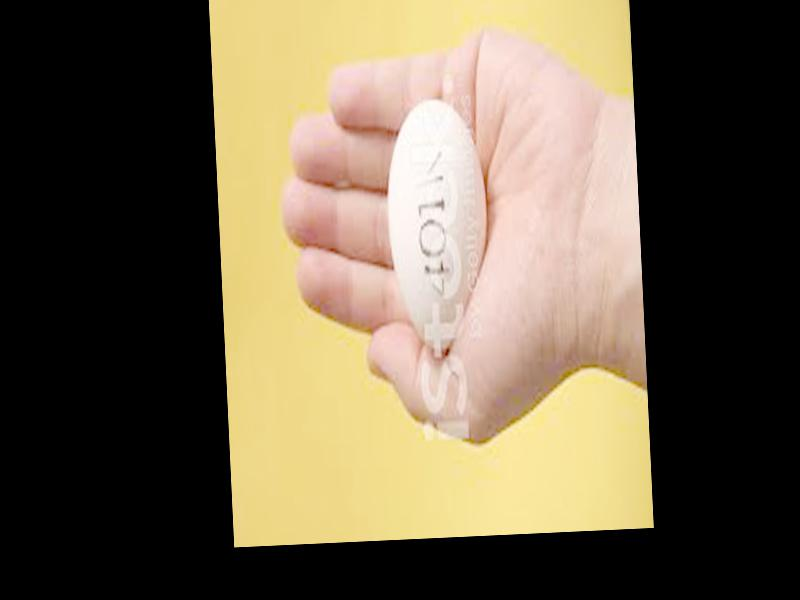Eggs: (383, 97, 491, 352)
